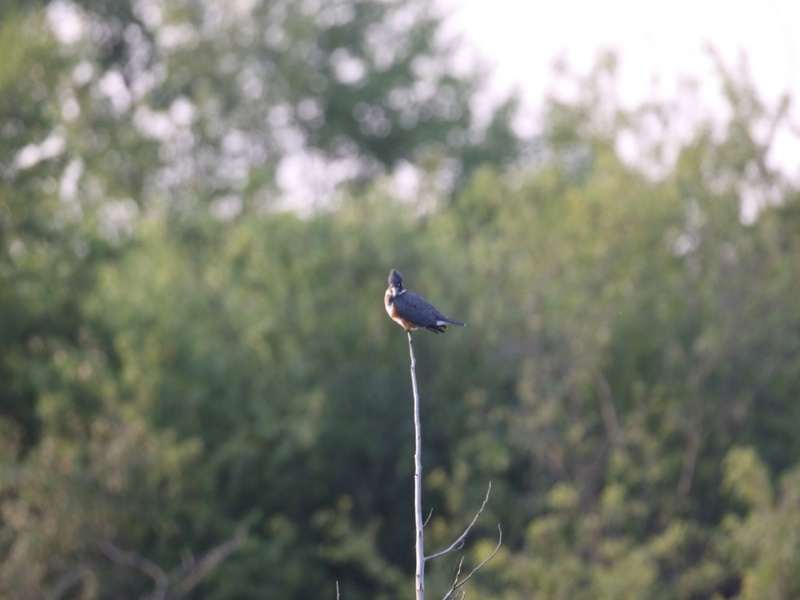kingfisher: (381, 268, 468, 339)
